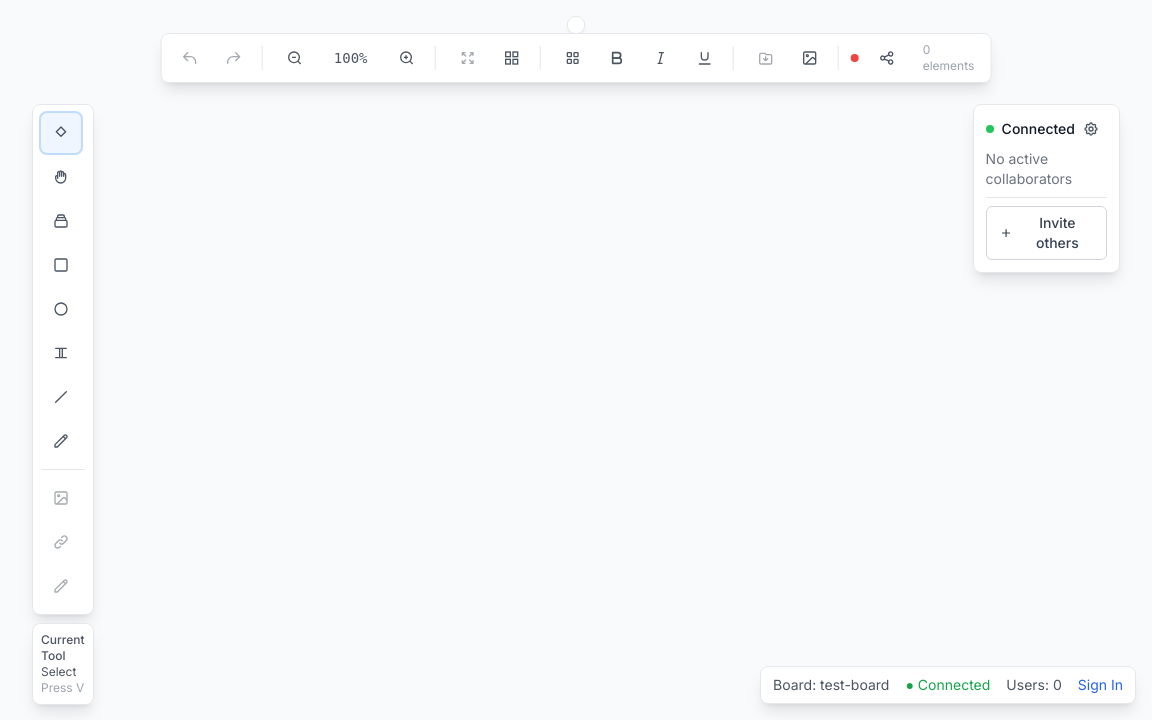
Test: UI Integration Tests › Template Gallery Integration › should open template gallery modal when clicked
Click the button with test id "template-gallery-button".
click(573, 58)  # box [553,44,593,72]
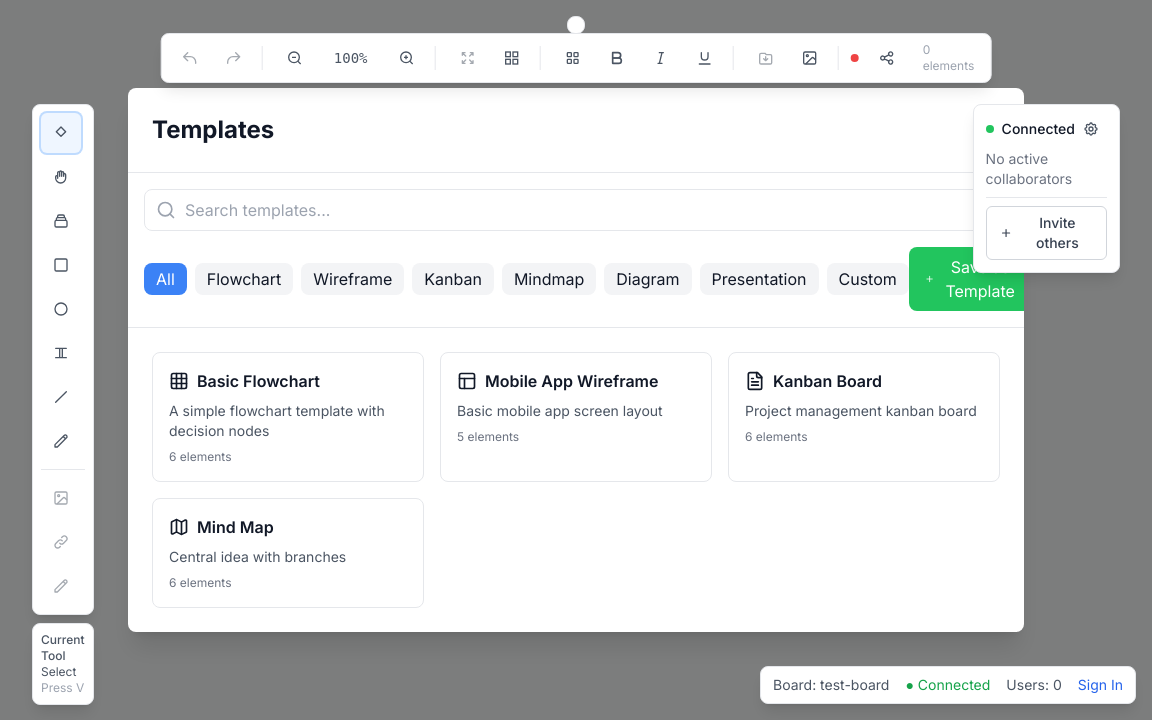
Result: the heading "Templates" is shown at [152,114,274,146]
Result: the field with placeholder "Search templates..." is shown at [144,189,1008,231]
